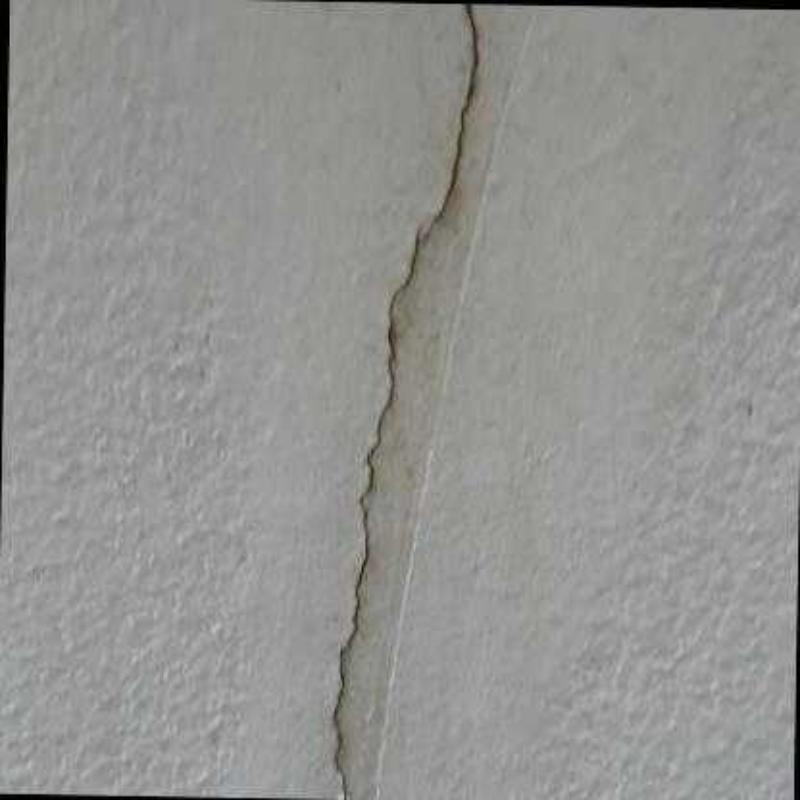pothole: (333, 4, 477, 798)
